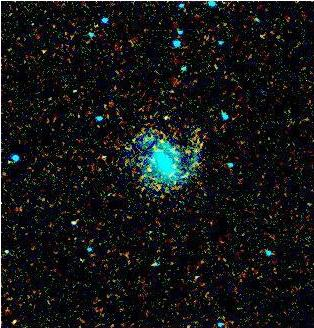star: (132, 152, 162, 182)
